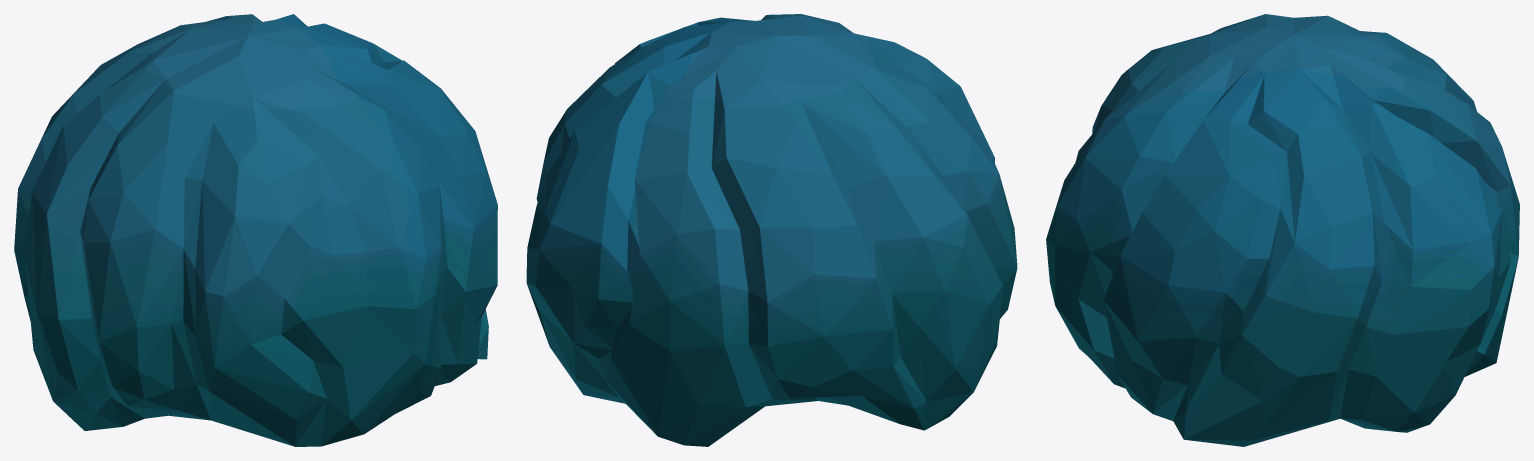
Rendered from Arbre3f.obj.
The picture shows the model from 3 angles, left to right: view 1: azimuth 30°, elevation 25°; view 2: azimuth 150°, elevation 25°; view 3: azimuth 270°, elevation 25°; orthographic projection. The views are drawn at different scales.
Visible parts, largest first — view 1: Arbre_3:Arbre3:Group11557 Arbre_3:group group; view 2: Arbre_3:Arbre3:Group11557 Arbre_3:group group; view 3: Arbre_3:Arbre3:Group11557 Arbre_3:group group.
Boxes of the visible parts, x1,y1,x2,y2 form: Arbre_3:Arbre3:Group11557 Arbre_3:group group: (14,14,497,446); Arbre_3:Arbre3:Group11557 Arbre_3:group group: (526,14,1017,446); Arbre_3:Arbre3:Group11557 Arbre_3:group group: (1046,14,1519,446).
Bounding box in the file's own units: 8.06 × 6.18 × 7.83.
1 material, 1 textured.
